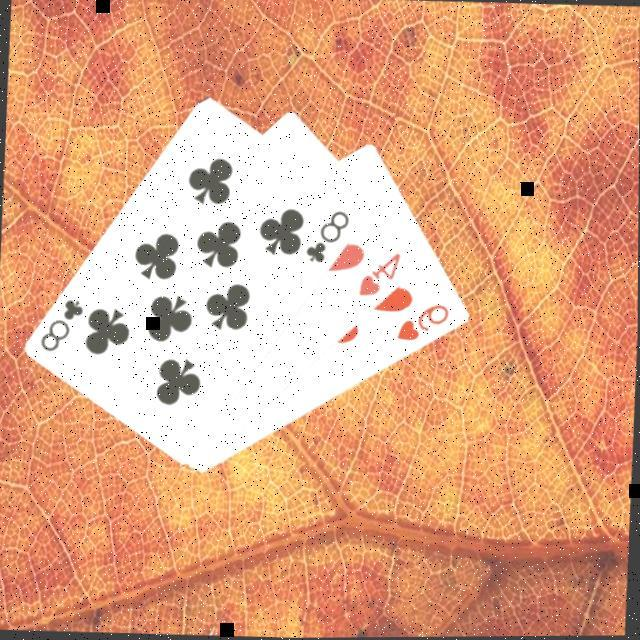4H: (357, 246, 407, 300)
8C: (304, 204, 355, 266), (39, 292, 89, 354)
9H: (395, 299, 455, 345)
